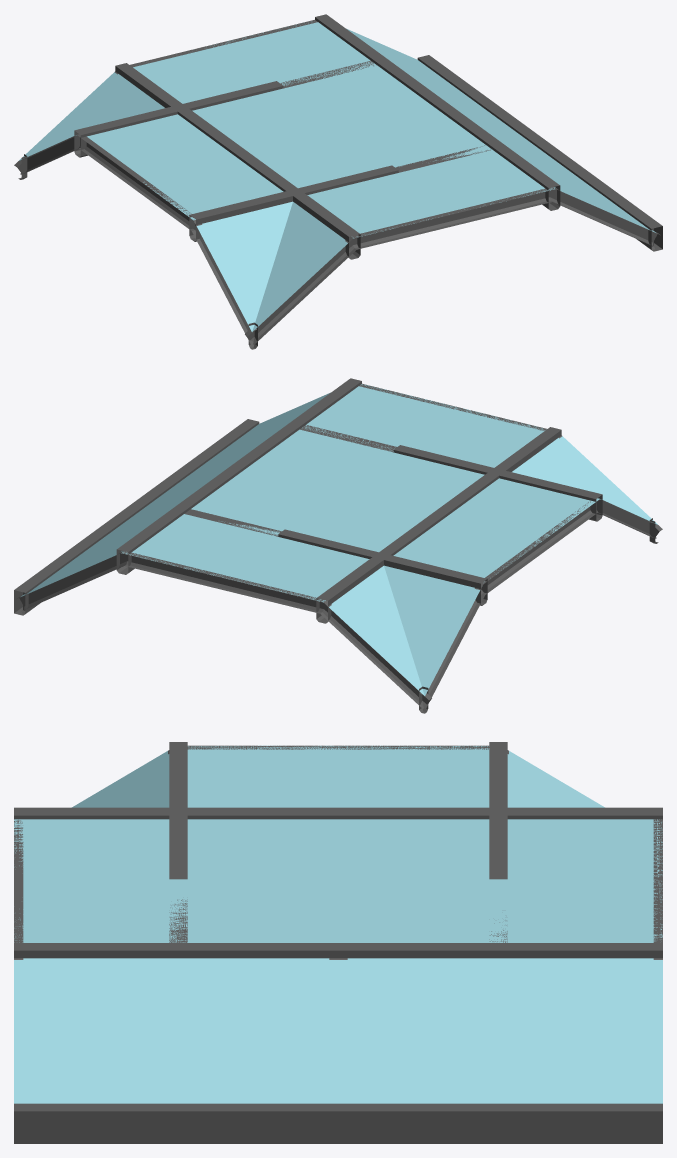
File: SM_GlassCeiling3Way.fbx
The picture shows the model from 3 angles, top to bottom: view 1: azimuth 30°, elevation 25°; view 2: azimuth 150°, elevation 25°; view 3: azimuth 270°, elevation 25°; orthographic projection. The views are drawn at different scales.
Parts seen in each view (by area): view 1: SM_GlassCeiling3Way; view 2: SM_GlassCeiling3Way; view 3: SM_GlassCeiling3Way.
Part boxes in pixels (x1,y1,x2,y2): SM_GlassCeiling3Way: (14,14,662,349); SM_GlassCeiling3Way: (14,378,662,713); SM_GlassCeiling3Way: (14,742,662,1143).
Size of the model in its own units: 410 by 84.06 by 400.
